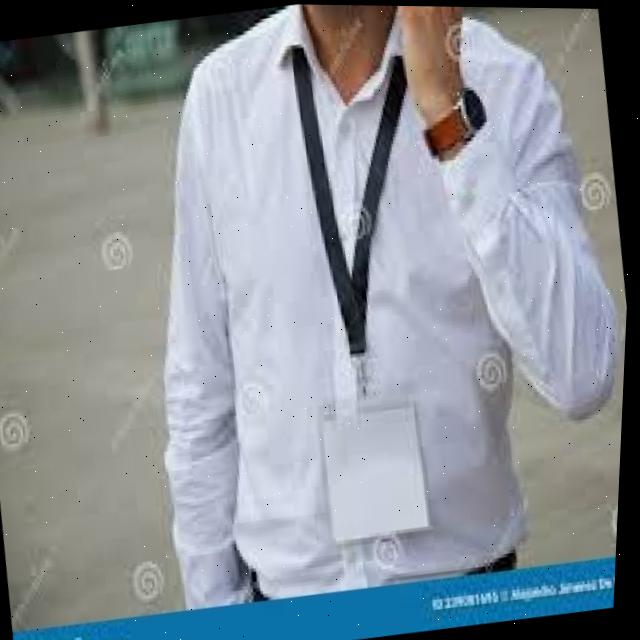id_card: (265, 54, 465, 554)
